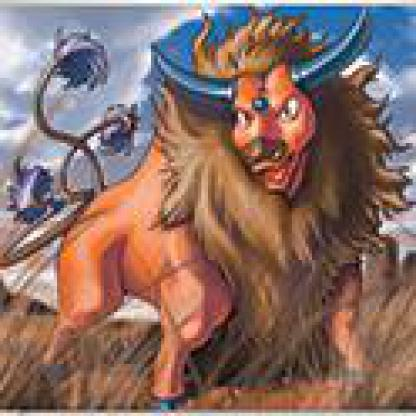Tauros: (1, 1, 414, 414)
